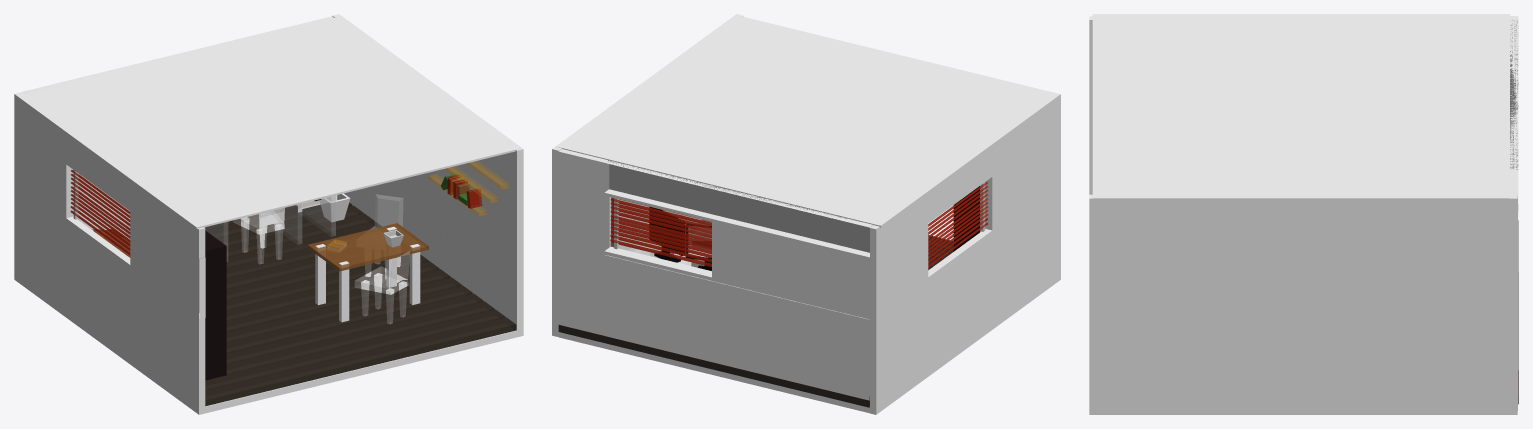
The picture shows the model from 3 angles, left to right: view 1: azimuth 30°, elevation 25°; view 2: azimuth 150°, elevation 25°; view 3: azimuth 270°, elevation 25°; orthographic projection. The views are drawn at different scales.
Parts seen in each view (by area): view 1: Cube.114, Plane, Cube, Cube.001, Cube.102, Cube.002, Cube.095, Cube.003, Cube.004, Cube.005, Cube.006, Cube.096 (+18 smaller); view 2: Plane, Cube.114, Cube.017, Cube.102, Cube.092; view 3: Plane, Cube.114.
Boxes of the visible parts, x1=… form: Cube.114: x1=16, y1=16, x2=521, y2=229; Plane: x1=14, y1=14, x2=523, y2=414; Cube: x1=205, y1=317, x2=516, y2=406; Cube.001: x1=205, y1=309, x2=505, y2=390; Cube.102: x1=205, y1=230, x2=226, y2=380; Cube.002: x1=226, y1=301, x2=494, y2=374; Cube.095: x1=307, y1=223, x2=428, y2=271; Cube.003: x1=226, y1=293, x2=483, y2=363; Cube.004: x1=226, y1=285, x2=472, y2=353; Cube.005: x1=226, y1=277, x2=461, y2=342; Cube.006: x1=226, y1=269, x2=450, y2=331; Cube.096: x1=355, y1=251, x2=409, y2=324; Plane: x1=552, y1=14, x2=1060, y2=414; Cube.114: x1=556, y1=15, x2=1060, y2=227; Cube.017: x1=558, y1=325, x2=869, y2=407; Cube.102: x1=953, y1=186, x2=979, y2=251; Cube.092: x1=649, y1=207, x2=685, y2=262; Plane: x1=1089, y1=16, x2=1518, y2=414; Cube.114: x1=1092, y1=14, x2=1509, y2=198.
Size of the model in its own units: 9.31 by 5.11 by 9.16.
